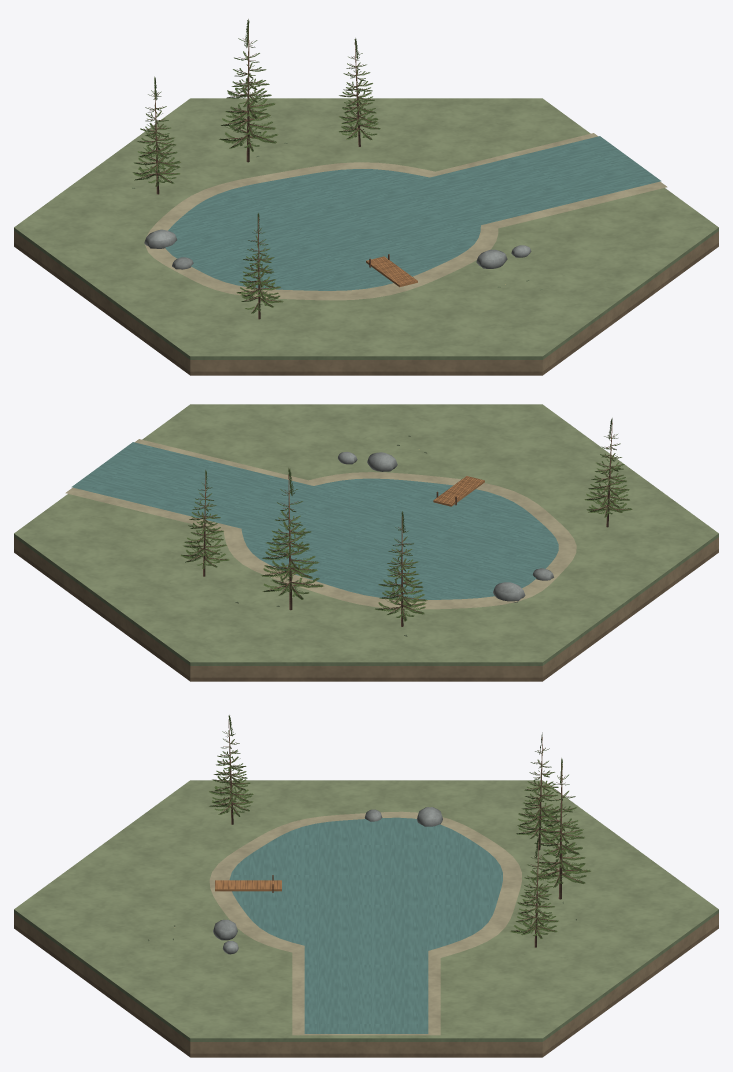
File: laguna.glb
The picture shows the model from 3 angles, top to bottom: view 1: azimuth 30°, elevation 25°; view 2: azimuth 150°, elevation 25°; view 3: azimuth 270°, elevation 25°; orthographic projection.
Parts seen in each view (by area): view 1: laguna.010 / 0, laguna.010 / 4, laguna.010 / 5, laguna.010 / 1, laguna.010 / 2; view 2: laguna.010 / 0, laguna.010 / 4, laguna.010 / 5, laguna.010 / 1, laguna.010 / 2; view 3: laguna.010 / 0, laguna.010 / 4, laguna.010 / 5, laguna.010 / 1, laguna.010 / 2.
Boxes of the visible parts, x1,y1,x2,y2 form: laguna.010 / 0: (14,98,718,375); laguna.010 / 4: (165,136,661,290); laguna.010 / 5: (132,19,380,313); laguna.010 / 1: (136,27,417,319); laguna.010 / 2: (144,229,531,269); laguna.010 / 0: (14,404,718,681); laguna.010 / 4: (71,442,558,599); laguna.010 / 5: (180,418,632,621); laguna.010 / 1: (184,422,629,626); laguna.010 / 2: (338,451,553,602); laguna.010 / 0: (14,780,718,1057); laguna.010 / 4: (229,817,502,1033); laguna.010 / 5: (209,715,590,938); laguna.010 / 1: (212,719,587,947); laguna.010 / 2: (213,807,442,954).
Size of the model in its own units: 3.46 by 1.03 by 4.
Materials: 5 (5 with a texture image).
